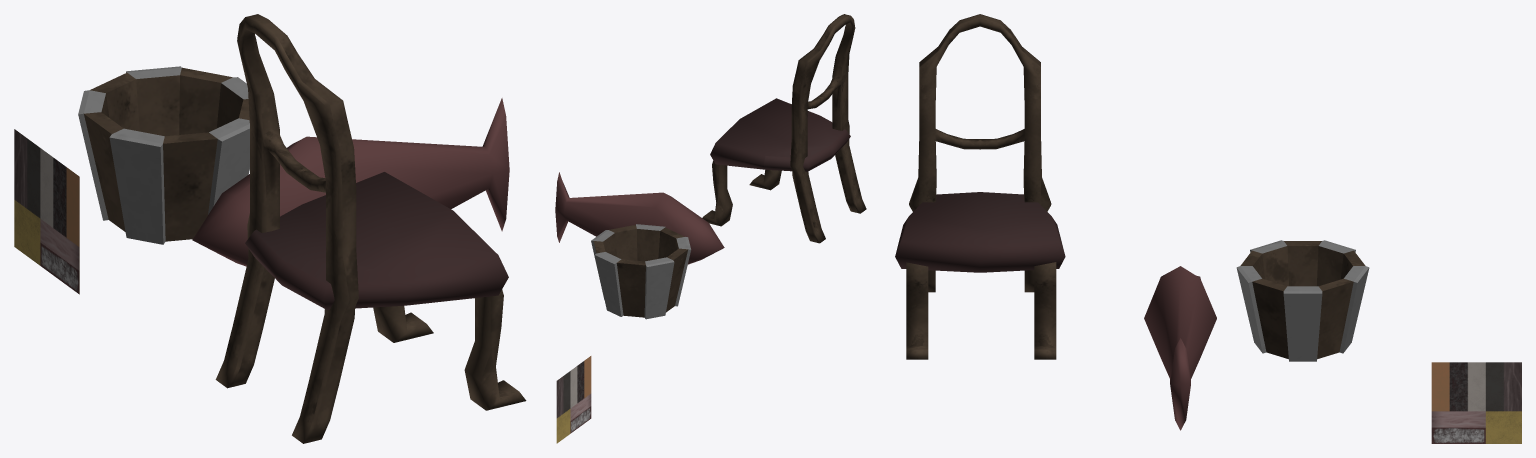
File: Misc Stuff.fbx
3 renders of one model, left to right at view 1: azimuth 30°, elevation 25°; view 2: azimuth 150°, elevation 25°; view 3: azimuth 270°, elevation 25°, orthographic. The views are drawn at different scales.
Visible parts, largest first — view 1: Cylinder.009, Cube.009, Cylinder.010, Cube.007, Plane.001, Cube.008; view 2: Cylinder.009, Cube.009, Cylinder.010, Cube.007, Plane.001, Cube.008; view 3: Cylinder.009, Cylinder.010, Cube.009, Plane.001, Cube.007, Cube.008.
Boxes of the visible parts, <box> form: Cylinder.009: <box>78,66,249,244</box>; Cube.009: <box>215,14,358,443</box>; Cylinder.010: <box>245,172,508,309</box>; Cube.007: <box>192,98,509,266</box>; Plane.001: <box>14,129,79,294</box>; Cube.008: <box>373,289,526,410</box>; Cylinder.009: <box>591,224,691,319</box>; Cube.009: <box>790,14,866,243</box>; Cylinder.010: <box>710,98,850,171</box>; Cube.007: <box>555,172,724,264</box>; Plane.001: <box>556,356,591,443</box>; Cube.008: <box>702,160,781,226</box>; Cylinder.009: <box>1236,240,1369,361</box>; Cylinder.010: <box>895,192,1065,272</box>; Cube.009: <box>909,14,1051,292</box>; Plane.001: <box>1431,362,1521,443</box>; Cube.007: <box>1144,266,1216,430</box>; Cube.008: <box>906,262,1056,359</box>.
Size of the model in its own units: 694 by 928 by 1390.
Materials: 2 (2 with a texture image).
